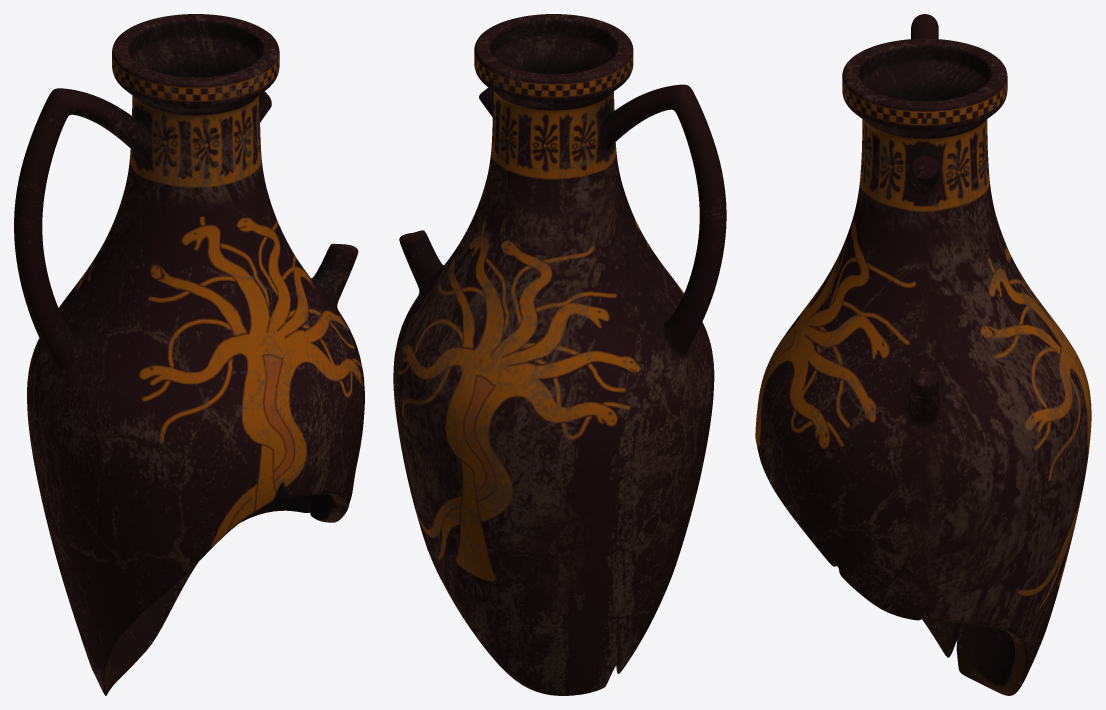
File: 20948_Broken_Amphora_v1_NEW.obj
3 views of the same model, side by side, from view 1: azimuth 30°, elevation 25°; view 2: azimuth 150°, elevation 25°; view 3: azimuth 270°, elevation 25° (orthographic). The views are drawn at different scales.
Visible parts, largest first — view 1: 20948_Broken_Amphora_v1; view 2: 20948_Broken_Amphora_v1; view 3: 20948_Broken_Amphora_v1.
Boxes of the visible parts, x1=… form: 20948_Broken_Amphora_v1: x1=14, y1=14, x2=364, y2=695; 20948_Broken_Amphora_v1: x1=393, y1=14, x2=726, y2=695; 20948_Broken_Amphora_v1: x1=755, y1=14, x2=1091, y2=695.
Bounding box in the file's own units: 5.11 × 9.3 × 4.43.
Materials: 1 (1 with a texture image).
